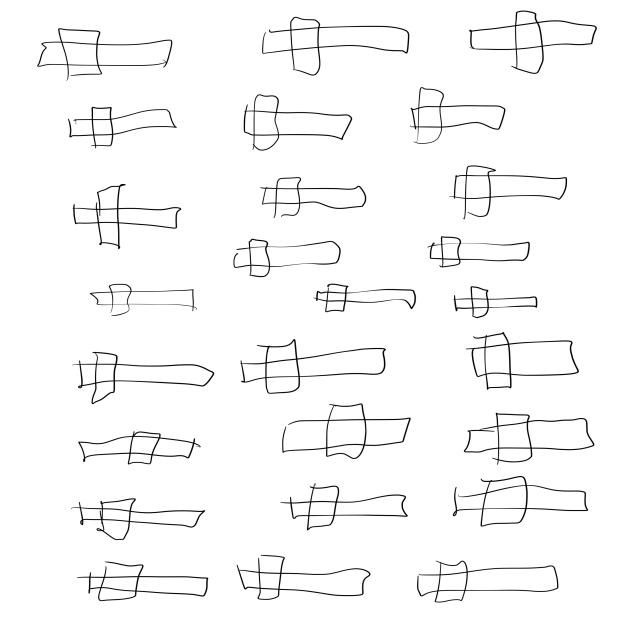Slider: (254, 1, 415, 85), (458, 0, 602, 82), (28, 15, 179, 86), (265, 401, 429, 464), (234, 332, 393, 395), (436, 471, 596, 532), (60, 180, 187, 253), (460, 412, 602, 477), (33, 94, 202, 148), (404, 553, 576, 606), (454, 332, 590, 399), (439, 163, 584, 224), (76, 347, 220, 408), (226, 550, 374, 606), (222, 92, 362, 150), (58, 490, 219, 539), (64, 424, 228, 472), (398, 84, 523, 145), (68, 560, 215, 609), (248, 170, 377, 222), (275, 485, 412, 533), (71, 281, 238, 320), (444, 283, 586, 325), (413, 229, 538, 276), (308, 276, 430, 320), (220, 235, 350, 276)
